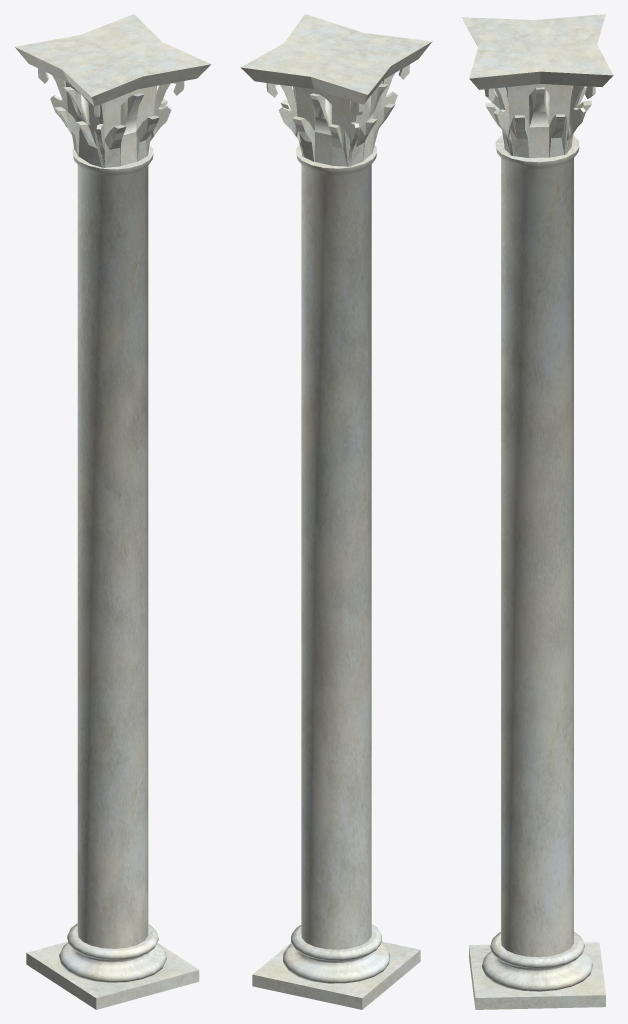
The model's file is white_column11.fbx.
The picture shows the model from 3 angles, left to right: view 1: azimuth 30°, elevation 25°; view 2: azimuth 150°, elevation 25°; view 3: azimuth 270°, elevation 25°; orthographic projection.
Visible parts, largest first — view 1: white_marble_557, white_marble_565, white_marble_556, white_marble_555, white_marble_566, white_marble_563, white_marble_562, white_marble_559; view 2: white_marble_557, white_marble_565, white_marble_556, white_marble_555, white_marble_558, white_marble_563, white_marble_561, white_marble_559; view 3: white_marble_557, white_marble_565, white_marble_564, white_marble_556, white_marble_555, white_marble_561, white_marble_562.
Boxes of the visible parts, x1=… form: white_marble_557: x1=72, y1=145, x2=153, y2=948; white_marble_565: x1=15, y1=14, x2=211, y2=106; white_marble_556: x1=26, y1=941, x2=199, y2=1009; white_marble_555: x1=59, y1=923, x2=166, y2=982; white_marble_566: x1=103, y1=86, x2=159, y2=167; white_marble_563: x1=54, y1=81, x2=102, y2=167; white_marble_562: x1=147, y1=81, x2=184, y2=156; white_marble_559: x1=38, y1=68, x2=74, y2=149; white_marble_557: x1=296, y1=144, x2=376, y2=949; white_marble_565: x1=240, y1=14, x2=432, y2=104; white_marble_556: x1=252, y1=941, x2=420, y2=1009; white_marble_555: x1=283, y1=924, x2=389, y2=983; white_marble_558: x1=292, y1=86, x2=350, y2=166; white_marble_563: x1=350, y1=81, x2=395, y2=165; white_marble_561: x1=266, y1=83, x2=303, y2=157; white_marble_559: x1=348, y1=101, x2=363, y2=166; white_marble_557: x1=495, y1=135, x2=579, y2=957; white_marble_565: x1=461, y1=14, x2=613, y2=89; white_marble_564: x1=507, y1=84, x2=571, y2=157; white_marble_556: x1=469, y1=942, x2=605, y2=1009; white_marble_555: x1=481, y1=932, x2=593, y2=991; white_marble_561: x1=564, y1=85, x2=595, y2=154; white_marble_562: x1=485, y1=87, x2=513, y2=156.
Bounding box in the file's own units: 54.82 × 370 × 54.46.
